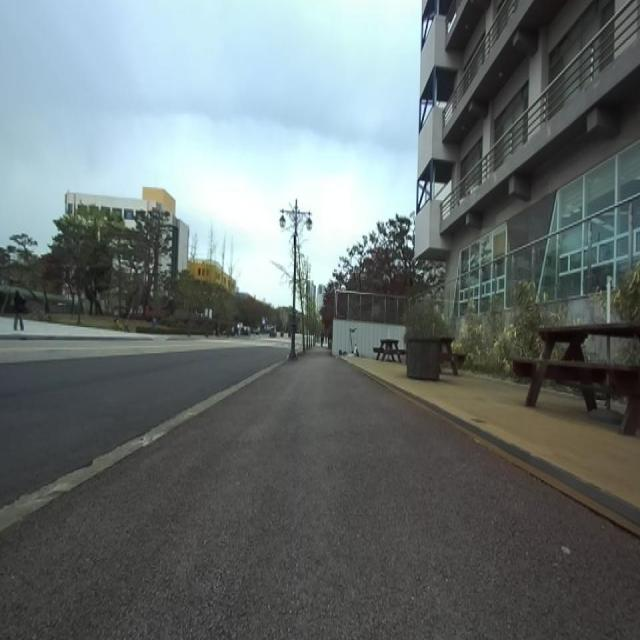sidewalk: (0, 345, 640, 639), (0, 360, 286, 531)
